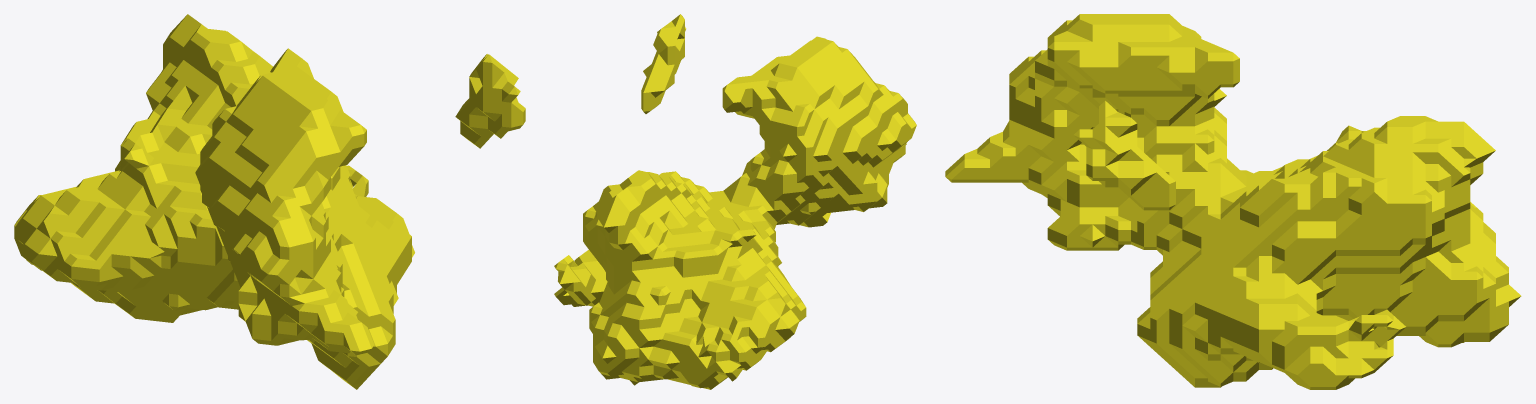
Rendered from tumor_mesh.obj.
The picture shows the model from 3 angles, left to right: view 1: azimuth 30°, elevation 25°; view 2: azimuth 150°, elevation 25°; view 3: azimuth 270°, elevation 25°; orthographic projection. The views are drawn at different scales.
Visible parts, largest first — view 1: edema; view 2: edema; view 3: edema.
Part boxes in pixels (left/top/right/bottom): edema: left=14, top=14, right=525, bottom=389; edema: left=554, top=14, right=916, bottom=389; edema: left=945, top=14, right=1521, bottom=389.
Bounding box in the file's own units: 28 × 28 × 45.
